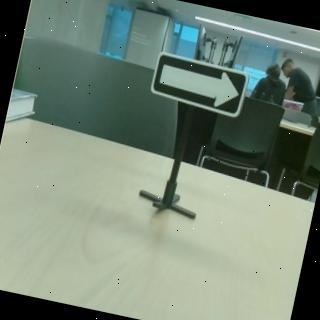sign_oneway_right: (148, 50, 254, 122)
